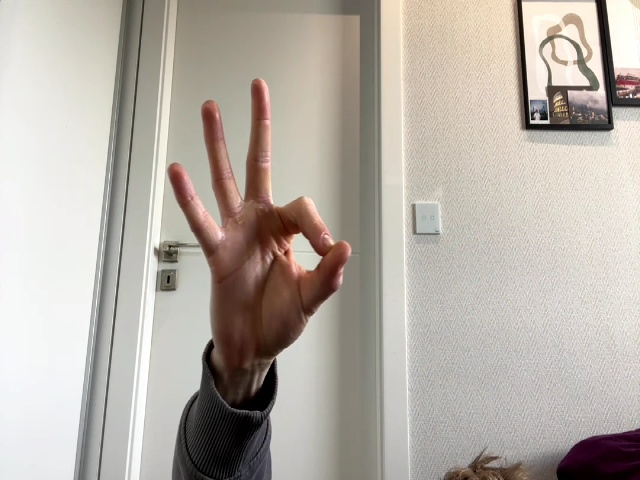O: (168, 78, 351, 350)
